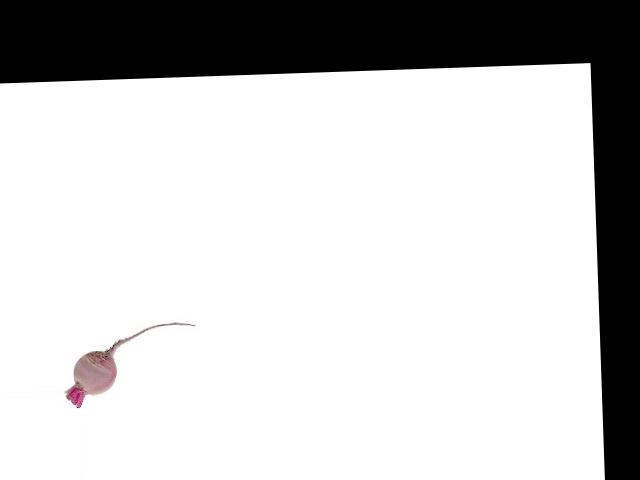beet: (63, 321, 199, 407)
